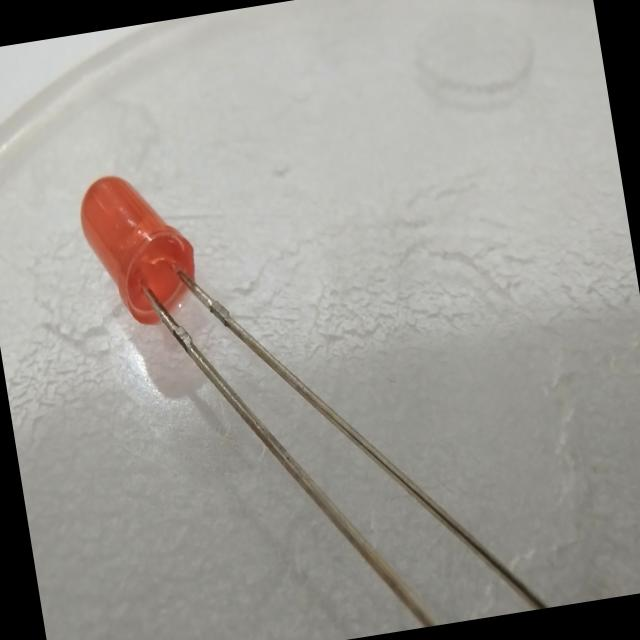red_led: (57, 147, 216, 346)
